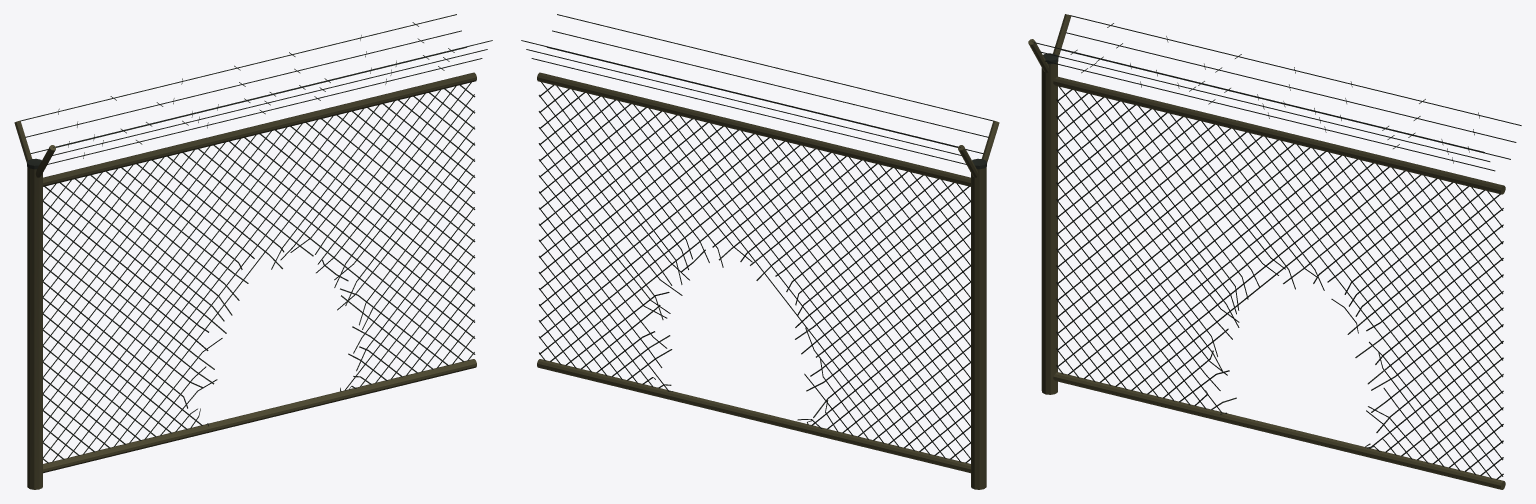
Rendered from MetalSteezy_Grillage_Dechire.fbx.
3 views of the same model, side by side, from view 1: azimuth 30°, elevation 25°; view 2: azimuth 150°, elevation 25°; view 3: azimuth 330°, elevation 25° (orthographic). The views are drawn at different scales.
Visible parts, largest first — view 1: MetalSteezy_Grillage_Dechire; view 2: MetalSteezy_Grillage_Dechire; view 3: MetalSteezy_Grillage_Dechire.
Part boxes in pixels (x1,y1,x2,y2): MetalSteezy_Grillage_Dechire: [14, 14, 492, 489]; MetalSteezy_Grillage_Dechire: [521, 14, 999, 489]; MetalSteezy_Grillage_Dechire: [1028, 14, 1521, 489].
Size of what is drawn, in the model's own units: 4.07 by 0.606 by 3.08.
